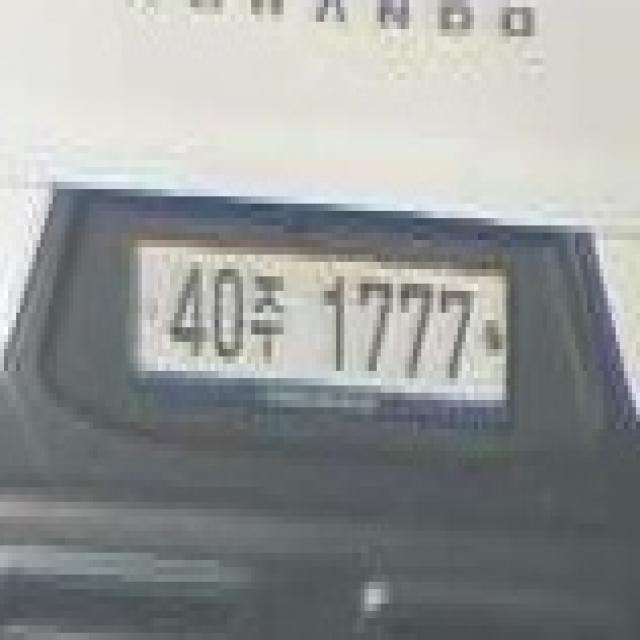0: (211, 254, 247, 364)
1: (320, 269, 348, 371)
4: (170, 255, 207, 356)
7: (437, 276, 478, 386), (397, 269, 433, 386), (356, 269, 393, 371)
ju: (247, 269, 284, 364)
license_plate: (122, 225, 514, 408)
